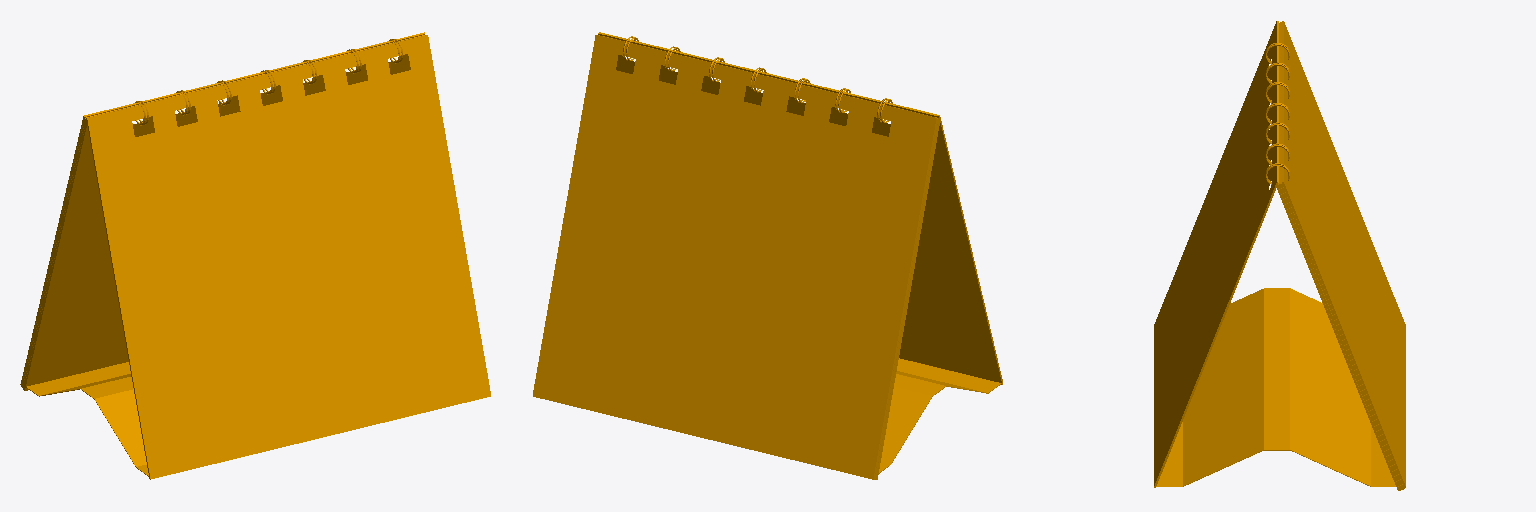
The robot description file, URDF, robot "none":
<robot name="none">
       <link name="none">
           <visual>
               <origin rpy="1.57 0 0" xyz="0 0 0" />
               <geometry>
                   <mesh filename="kalender.obj" />
               </geometry>
           </visual>
          <collision>
              <geometry>
                  <box size="1.000000 0.900007 0.660164" />
              </geometry>
          </collision>

          <inertial>
            <mass value="0.0" />
            <inertia ixx="0.0" ixy="0.0" ixz="0.0" iyy="0.0" iyz="0.0" izz="0.0" />
          </inertial>
      </link>
  </robot>

--- What the picture shows (computed from the rendered views, not written in the file) ---
The picture shows the robot from 3 angles, left to right: view 1: azimuth 30°, elevation 25°; view 2: azimuth 150°, elevation 25°; view 3: azimuth 270°, elevation 25°; orthographic projection.
Model none with 1 links and 0 joints (none), rooted at none, posed all joints at 0.
Visible links, largest first — view 1: none; view 2: none; view 3: none.
Boxes of the visible links, x1,y1,x2,y2 form: none: (20,32,490,479); none: (533,32,1002,479); none: (1154,21,1405,490).
Bounding box of the posed robot: 1 × 0.6602 × 0.9003 m (x, y, z).
1 mesh visuals loaded from 1 distinct referenced files (1 OBJ).